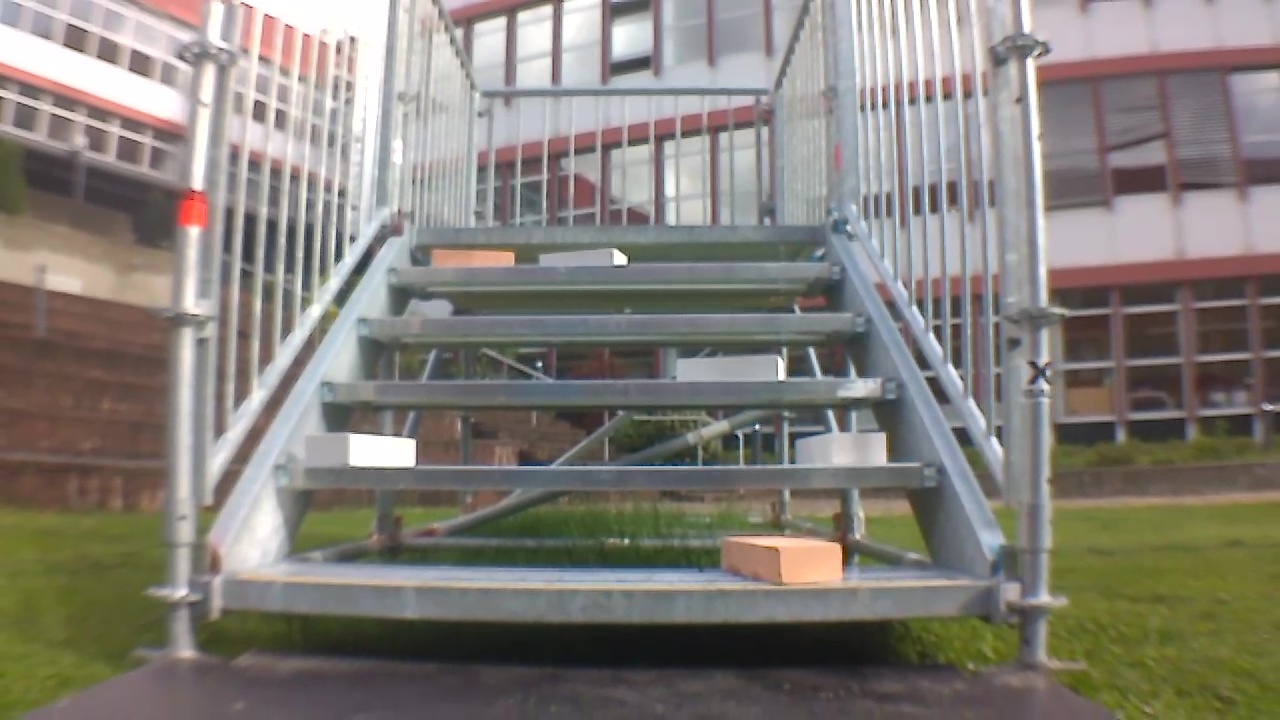brick: (723, 537, 841, 584), (306, 432, 416, 465), (796, 432, 885, 465), (677, 356, 782, 381), (539, 248, 625, 265), (430, 249, 512, 265)
edge: (225, 581, 990, 622), (275, 463, 941, 488), (322, 376, 900, 404), (362, 312, 872, 334), (389, 262, 844, 282), (412, 225, 827, 241)
stairs: (151, 3, 1077, 670)
steps: (221, 219, 997, 639)
